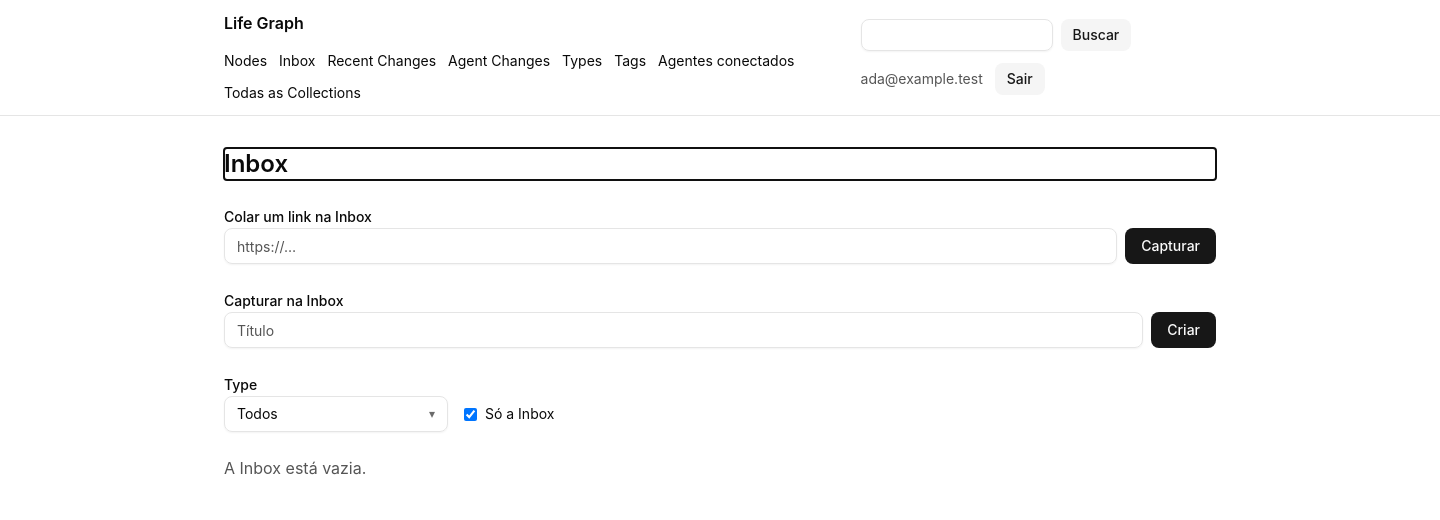
Test case: capture by paste › captures a link, clears the field and links to the Resource
This screenshot has width=1440, height=520.
Type "https://example.test/article?id=7" into the field labelled "Colar um link na Inbox" at (671, 246), box [224,228,1117,264]
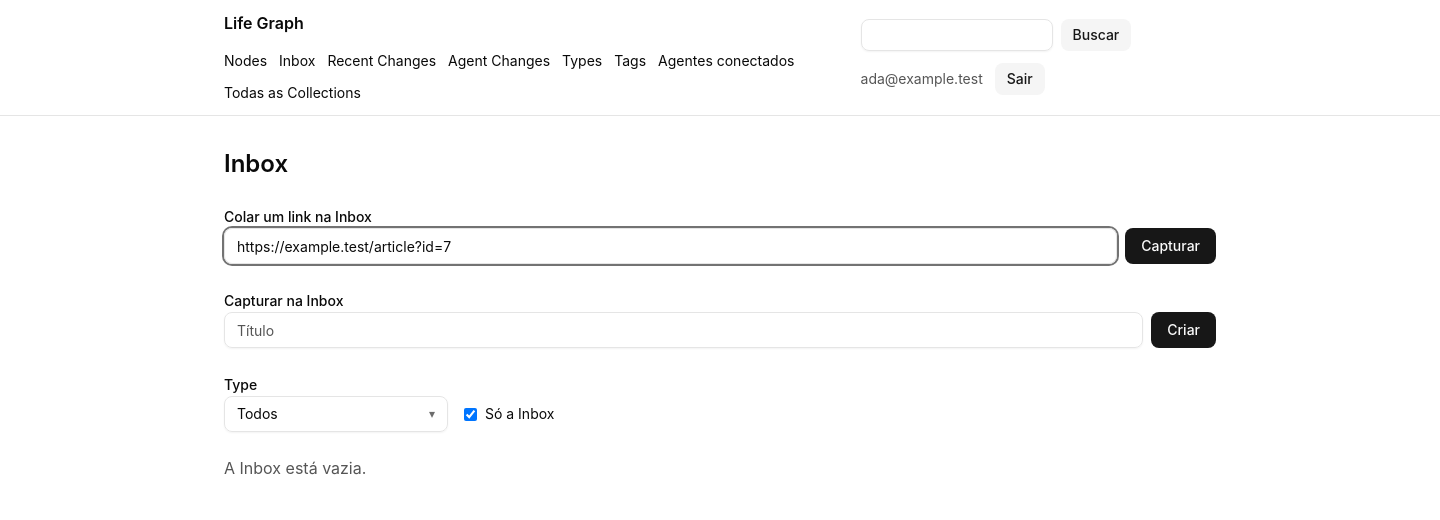
Click the button "Capturar" at (1171, 246), box [1125,228,1216,264]
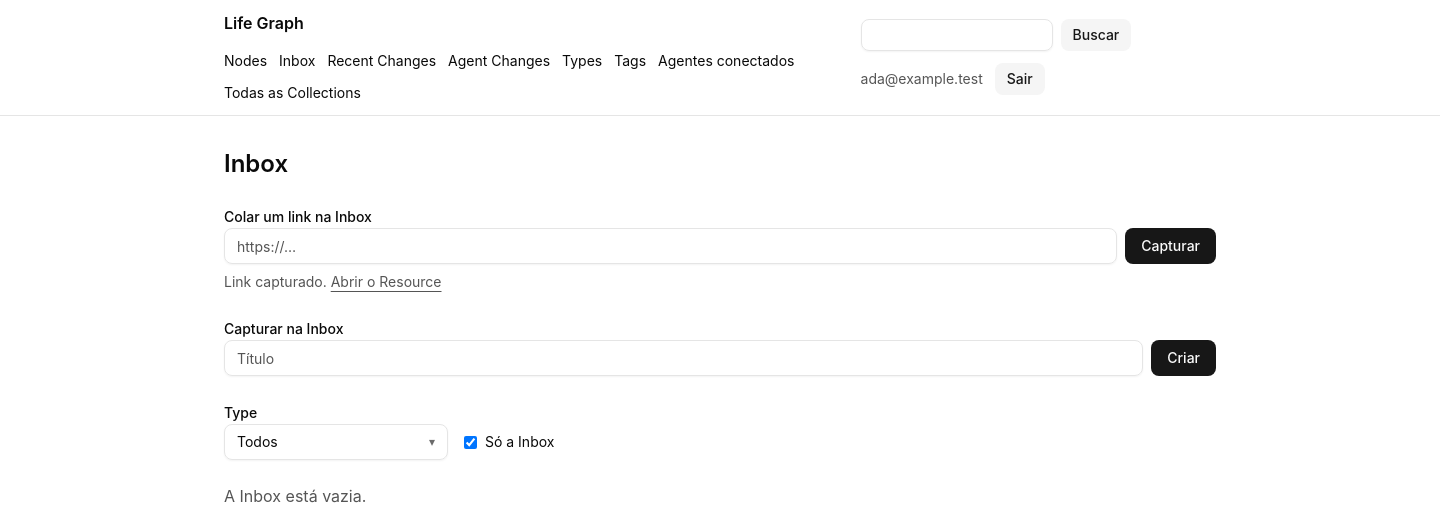
expect the message shows "Link capturado.": met, box [224,273,327,290]
expect the field labelled "Colar um link na Inbox" is empty: met, box [224,228,1117,264]
